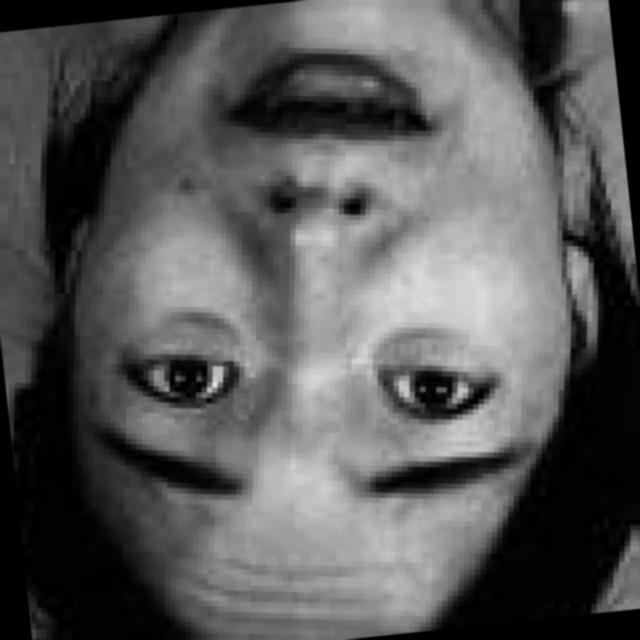fear: (63, 0, 591, 629)
